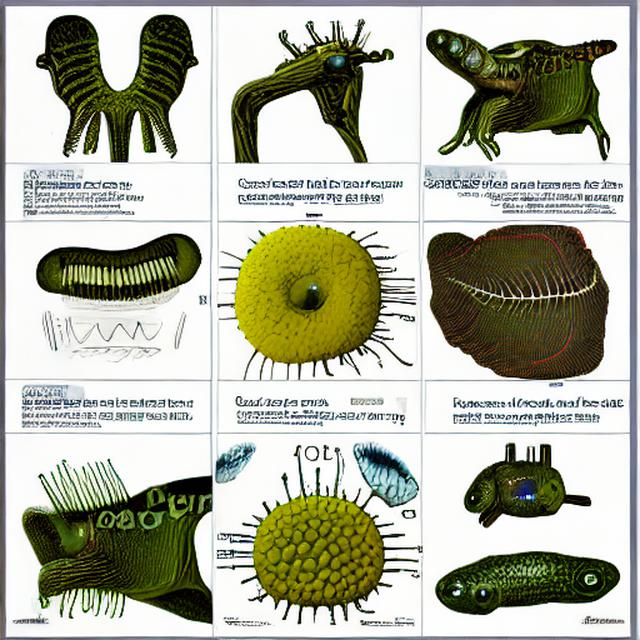Graph: (59, 305, 161, 366)
